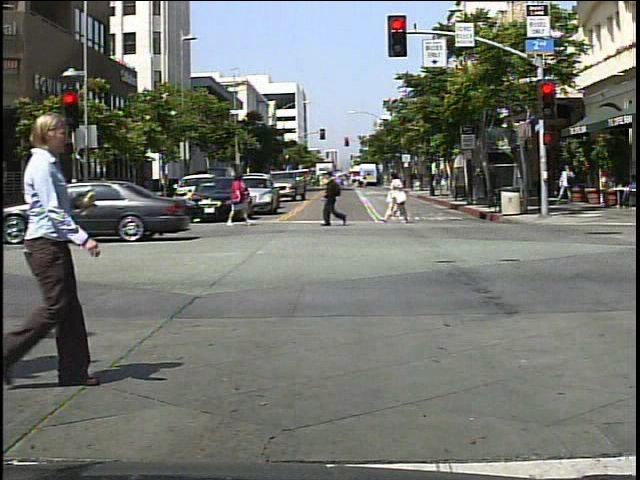person: (7, 89, 108, 400), (321, 158, 356, 232), (382, 163, 413, 227), (223, 168, 255, 227), (557, 160, 577, 205)
